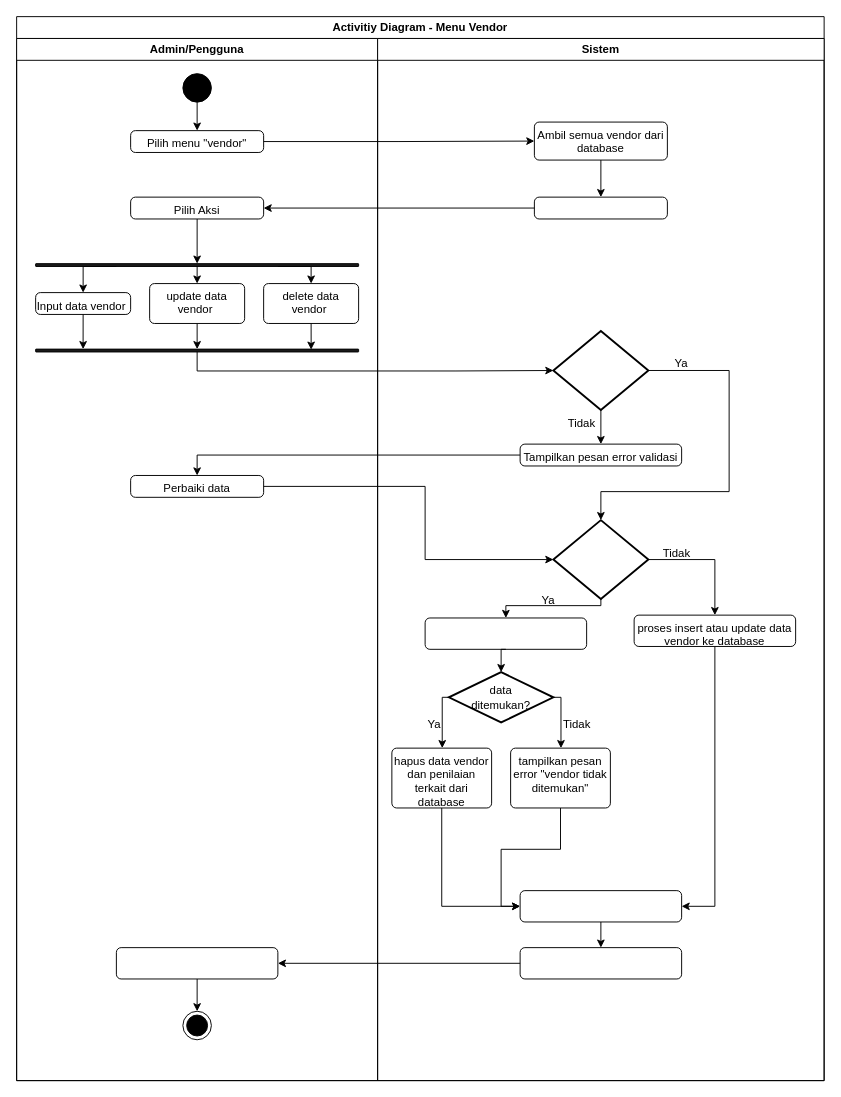
Some shapes in this 841 by 1097 pixel diagram are drawn without their labels. Here are the shapes that lost their labels. From the top down, the centre of each, then its label:
pixel 600 207: Tampilkan daftar vendor
pixel 600 370: validasi data ?
pixel 600 559: Aksi = delete ?
pixel 505 633: Ambil data vendor dari database
pixel 600 906: Atur ulang daftar vendor dari database
pixel 196 963: melihat daftar vendor terbaru
pixel 600 963: tampilkan daftar data vendor terbaru
